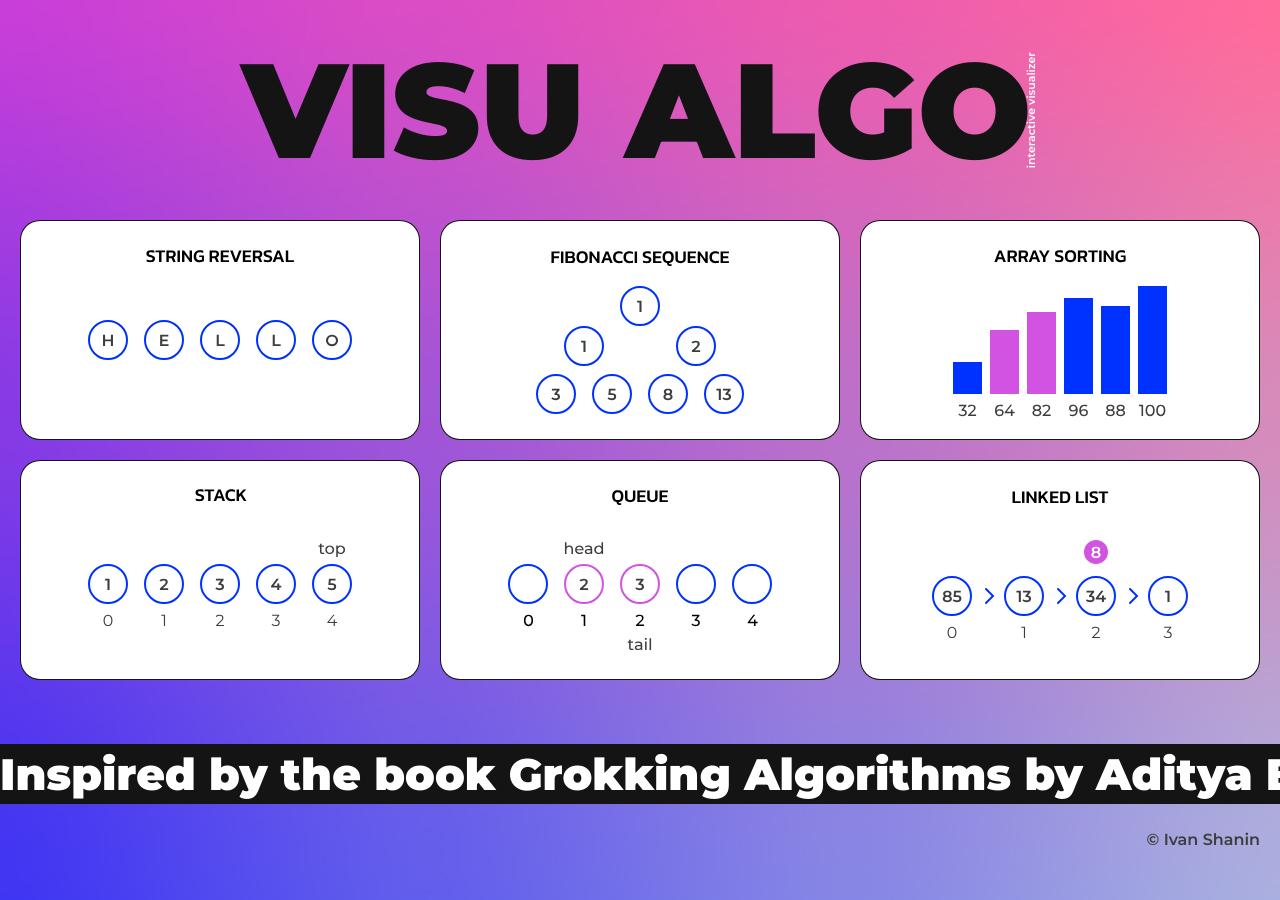
Test: App routing tests › renders app component and navigates to queue page
What coordinates should you click on to do the following:
click the link with test id "queue-page-link"
I would click on:
 (640, 570)
Its box is [440,460,840,680].
(page scrolled)
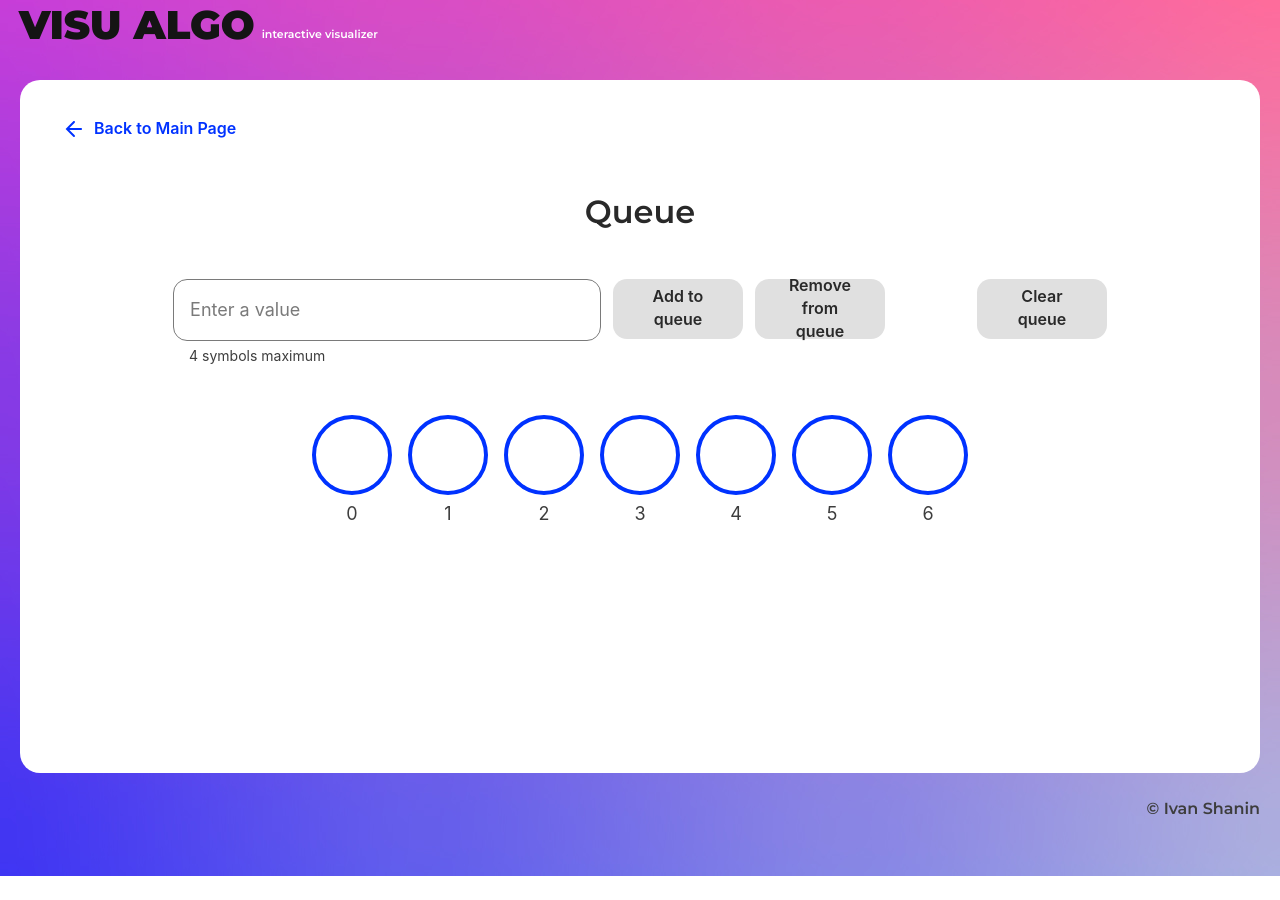
Expected: the element with test id "queue-page" is shown, [173,278,1107,524]
